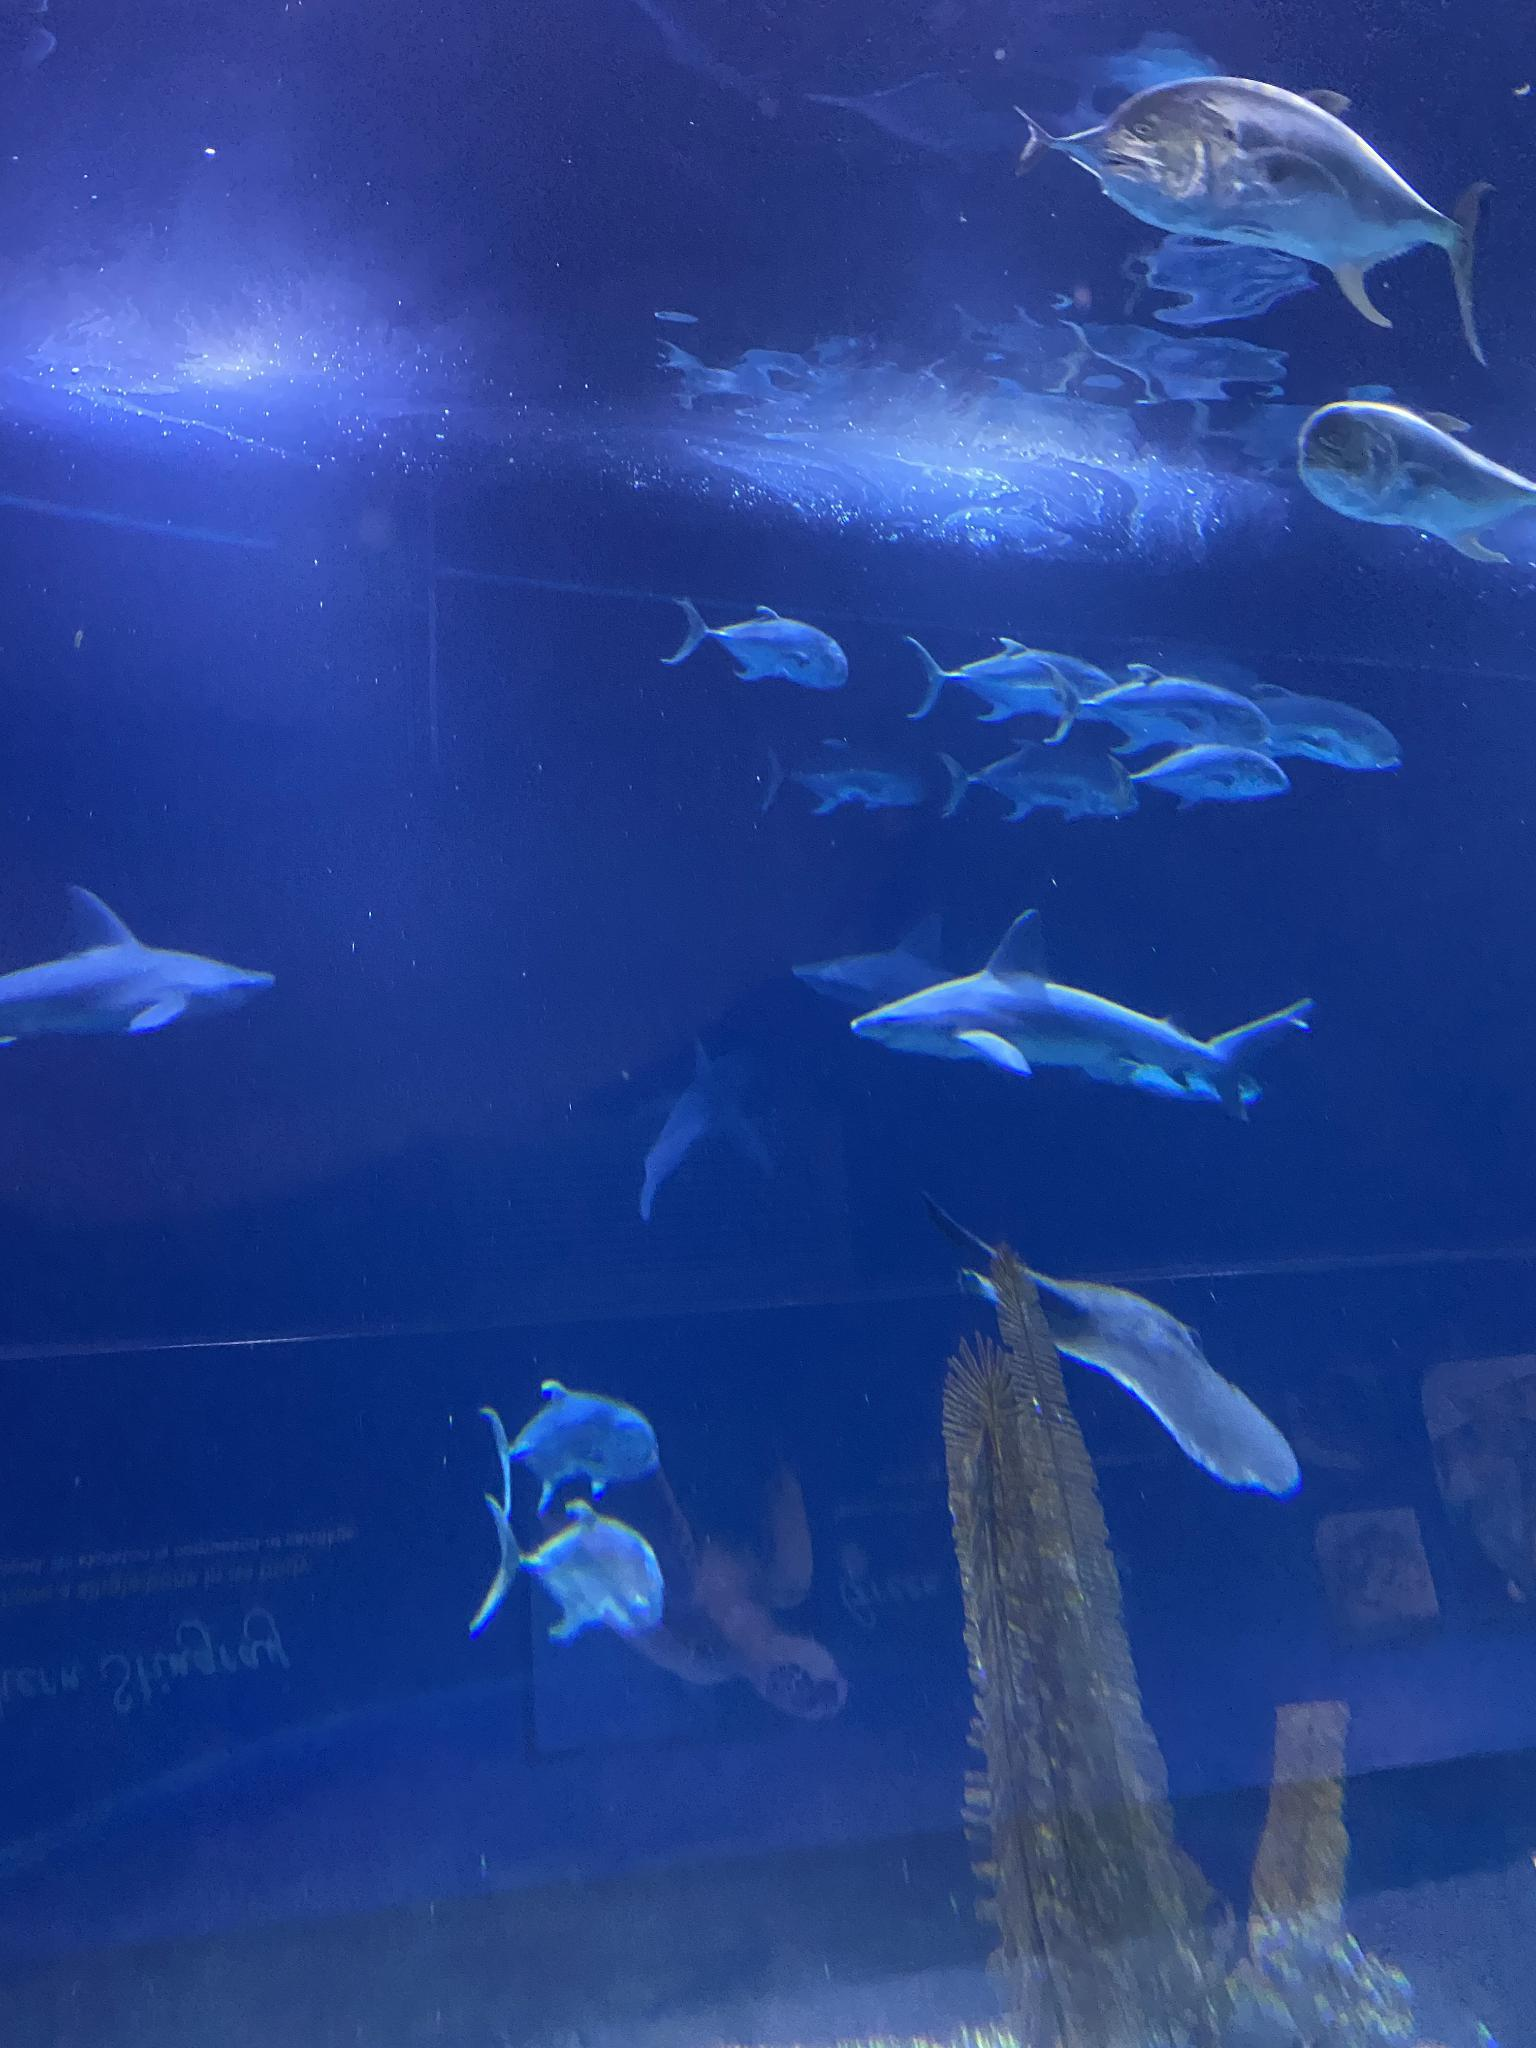fish: (1094, 76, 1496, 369), (1296, 398, 1536, 568), (470, 1495, 663, 1638), (484, 1379, 657, 1506), (910, 631, 1121, 726), (1042, 658, 1268, 745), (1202, 681, 1404, 772), (663, 592, 849, 689), (1008, 102, 1225, 184), (944, 731, 1134, 819), (763, 735, 925, 819), (1113, 745, 1296, 810)
shark: (850, 905, 1317, 1124), (0, 889, 281, 1039), (791, 913, 1070, 1026), (639, 1034, 765, 1218)
stingray: (952, 1268, 1300, 1496)
